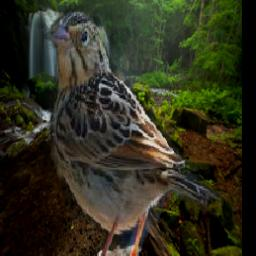Sparrow: (43, 0, 224, 256)
